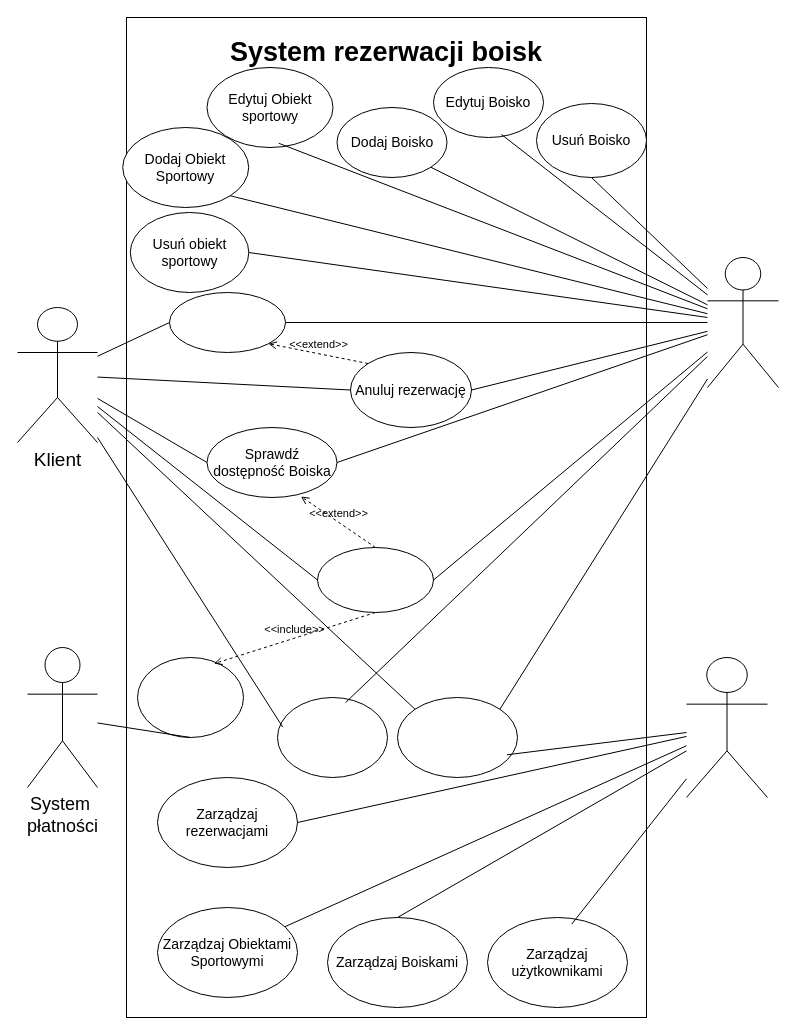
Image size: 803x1035. Some labels were removed from this diagram. Here are the shapes that lost their labels. From the top down, the centre of each, then its label:
At point 227,322: "Sprawdź historię rezerwacji".
At point 742,322: "Właściciel boiska".
At point 375,579: "Zarezerwuj Boisko".
At point 190,697: "Opłać rezerwację".
At point 332,737: "Zarejestruj się".
At point 457,737: "Zaloguj się".
At point 727,727: "Administrator".
